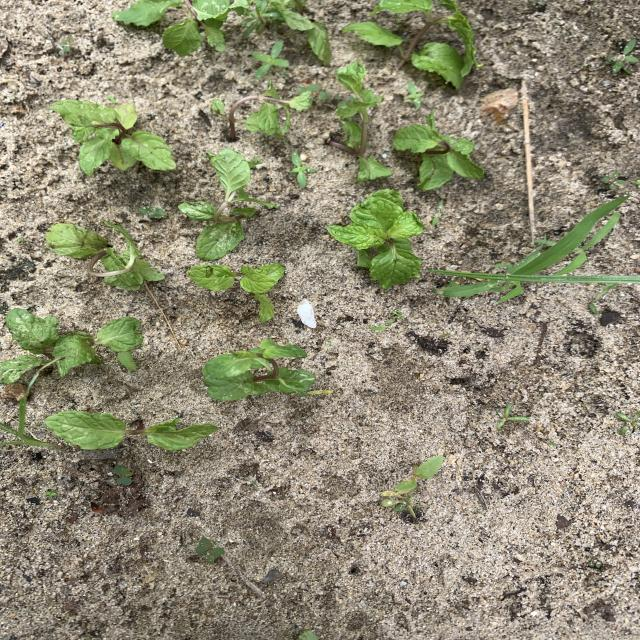crop: (345, 1, 480, 87), (179, 149, 277, 257), (0, 309, 141, 383), (328, 191, 422, 287), (50, 101, 175, 173), (47, 223, 163, 290), (328, 62, 391, 182), (395, 111, 483, 189), (203, 340, 315, 399), (47, 412, 216, 450), (114, 1, 233, 54), (212, 82, 311, 139), (189, 264, 283, 321), (270, 0, 331, 65)
weed: (437, 196, 627, 295), (0, 387, 52, 447), (395, 456, 443, 493), (234, 1, 281, 35), (253, 42, 287, 77), (607, 40, 636, 73), (291, 154, 315, 186), (497, 405, 529, 427), (195, 539, 224, 563), (297, 85, 330, 99), (619, 412, 639, 434), (406, 82, 423, 106), (115, 465, 132, 484), (603, 173, 624, 188), (140, 206, 166, 218), (59, 37, 75, 54), (306, 389, 333, 395), (390, 310, 402, 322), (589, 556, 600, 567), (46, 490, 56, 496)
